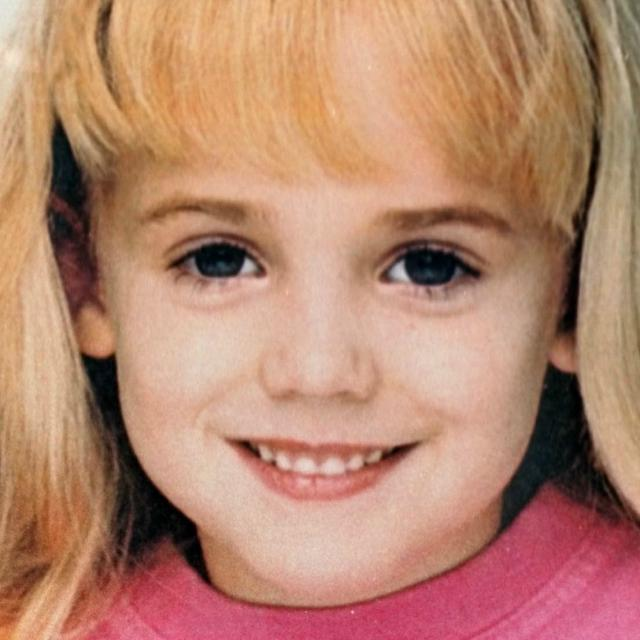Normal: (100, 62, 568, 607)
